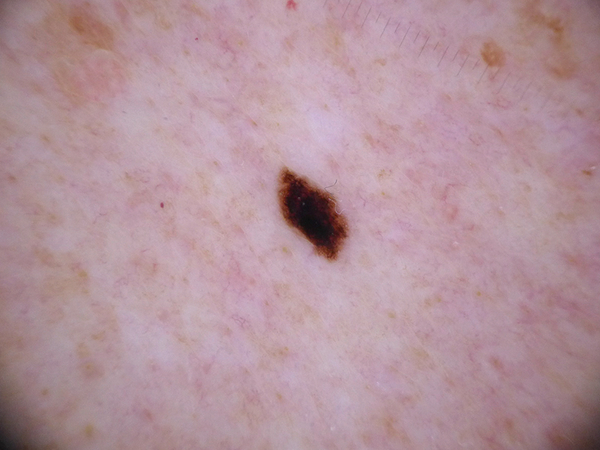Detected Lesion: (265, 159, 354, 267)
